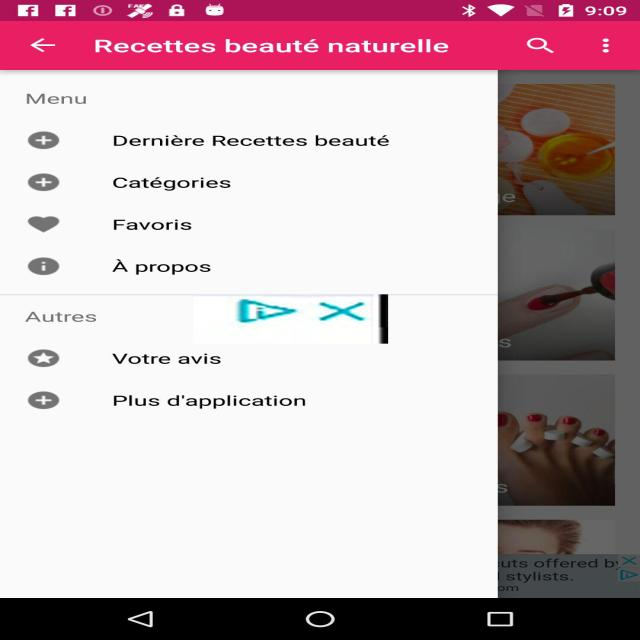sneaking: (194, 294, 388, 344)
